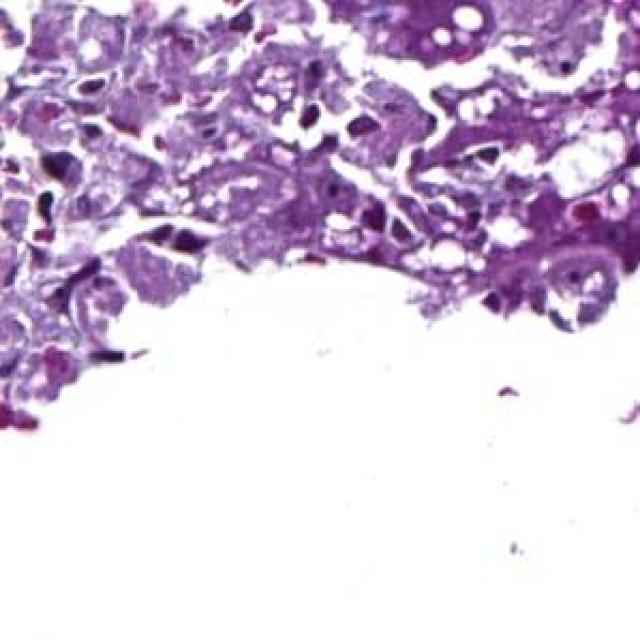inflammation: (22, 103, 128, 227)
